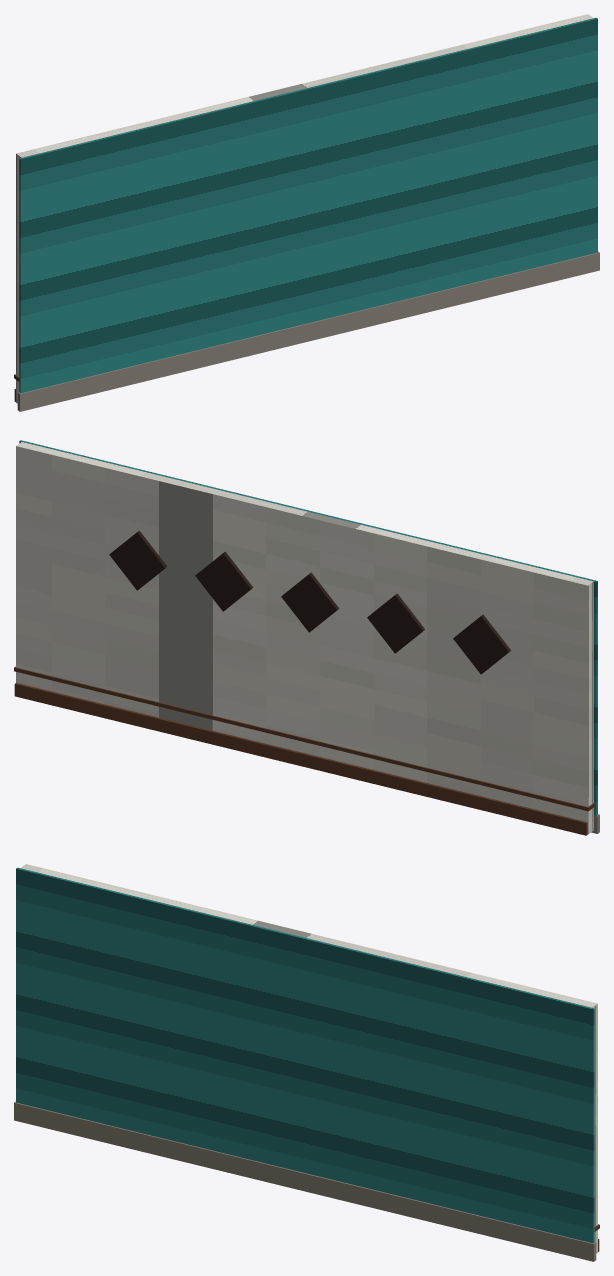
Rendered from back.glb.
3 renders of one model, top to bottom at view 1: azimuth 30°, elevation 25°; view 2: azimuth 150°, elevation 25°; view 3: azimuth 330°, elevation 25°, orthographic.
Visible parts, largest first — view 1: Box3, Box4, Box1; view 2: Box1, Box2, Box10, Box11, Box3, Box7, Box5, Box6, Box8, Box9; view 3: Box3, Box4, Box1.
Part boxes in pixels (<box>): Box3: <box>19,17,597,393</box>; Box4: <box>17,251,599,411</box>; Box1: <box>16,14,593,402</box>; Box1: <box>16,442,593,834</box>; Box2: <box>14,683,587,835</box>; Box10: <box>16,673,593,833</box>; Box11: <box>14,666,594,811</box>; Box3: <box>19,440,597,815</box>; Box7: <box>281,572,339,632</box>; Box5: <box>453,614,510,674</box>; Box6: <box>367,593,424,653</box>; Box8: <box>195,551,253,611</box>; Box9: <box>109,530,167,590</box>; Box3: <box>16,867,594,1243</box>; Box4: <box>14,1101,596,1261</box>; Box1: <box>20,864,597,1253</box>.
Size of the model in its own units: 8.77 by 3.64 by 0.285.
5 materials, 2 textured.
